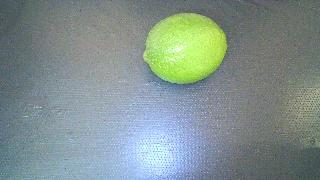EXPORTACION: (143, 13, 227, 84)
